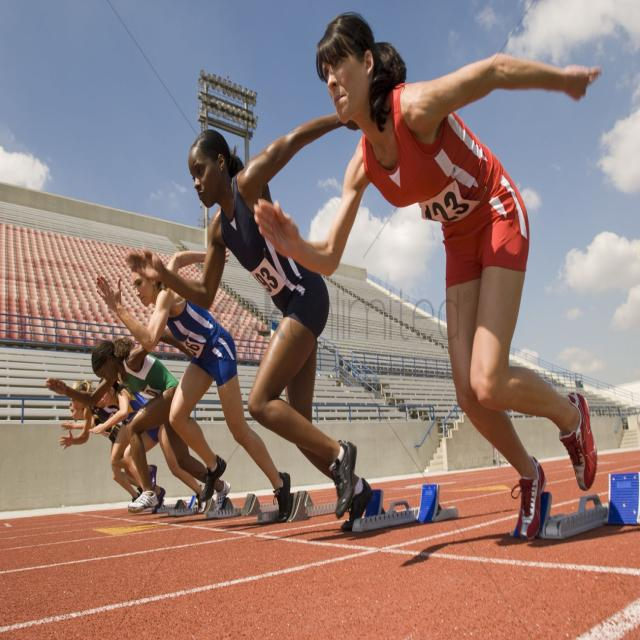body: (250, 11, 602, 543), (123, 111, 374, 532), (93, 250, 293, 524), (47, 336, 232, 521), (88, 375, 167, 515), (57, 378, 143, 503), (59, 395, 131, 471)
